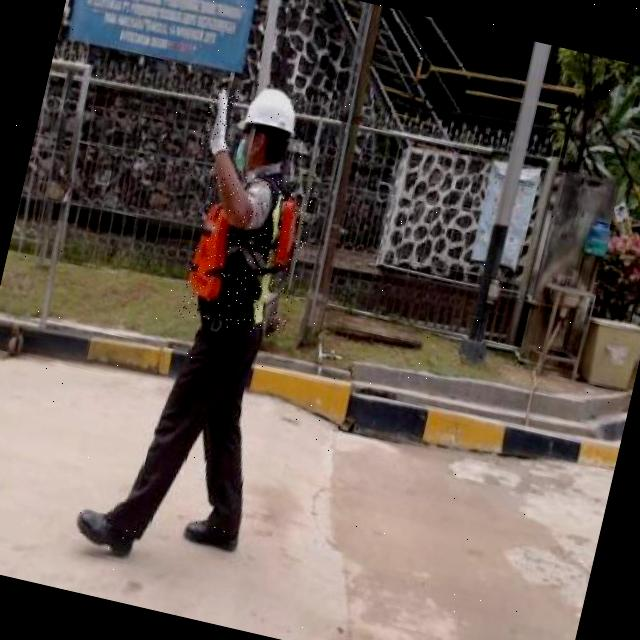boots: (69, 504, 142, 558), (178, 506, 246, 558)
helmet: (236, 82, 305, 140)
vest: (178, 164, 318, 340)
